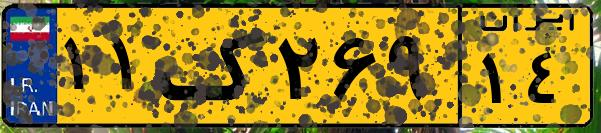1: (57, 26, 110, 100), (475, 38, 525, 113), (110, 28, 158, 98)
2: (270, 28, 330, 110)
4: (525, 38, 570, 115)
6: (330, 28, 385, 110)
9: (385, 28, 445, 110)
ک: (158, 12, 270, 120)
